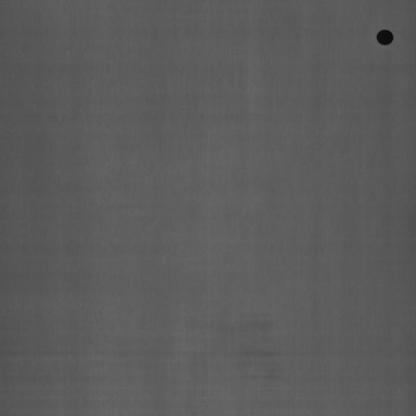punching_hole: (374, 24, 396, 52)
